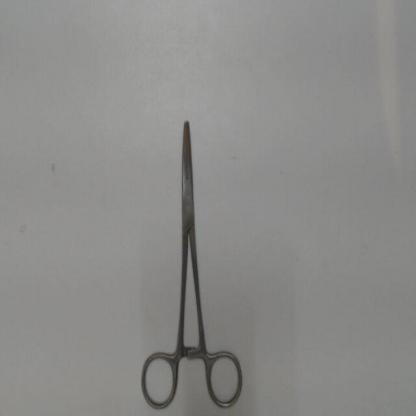Crile Artery Forceps: (137, 106, 251, 414)
